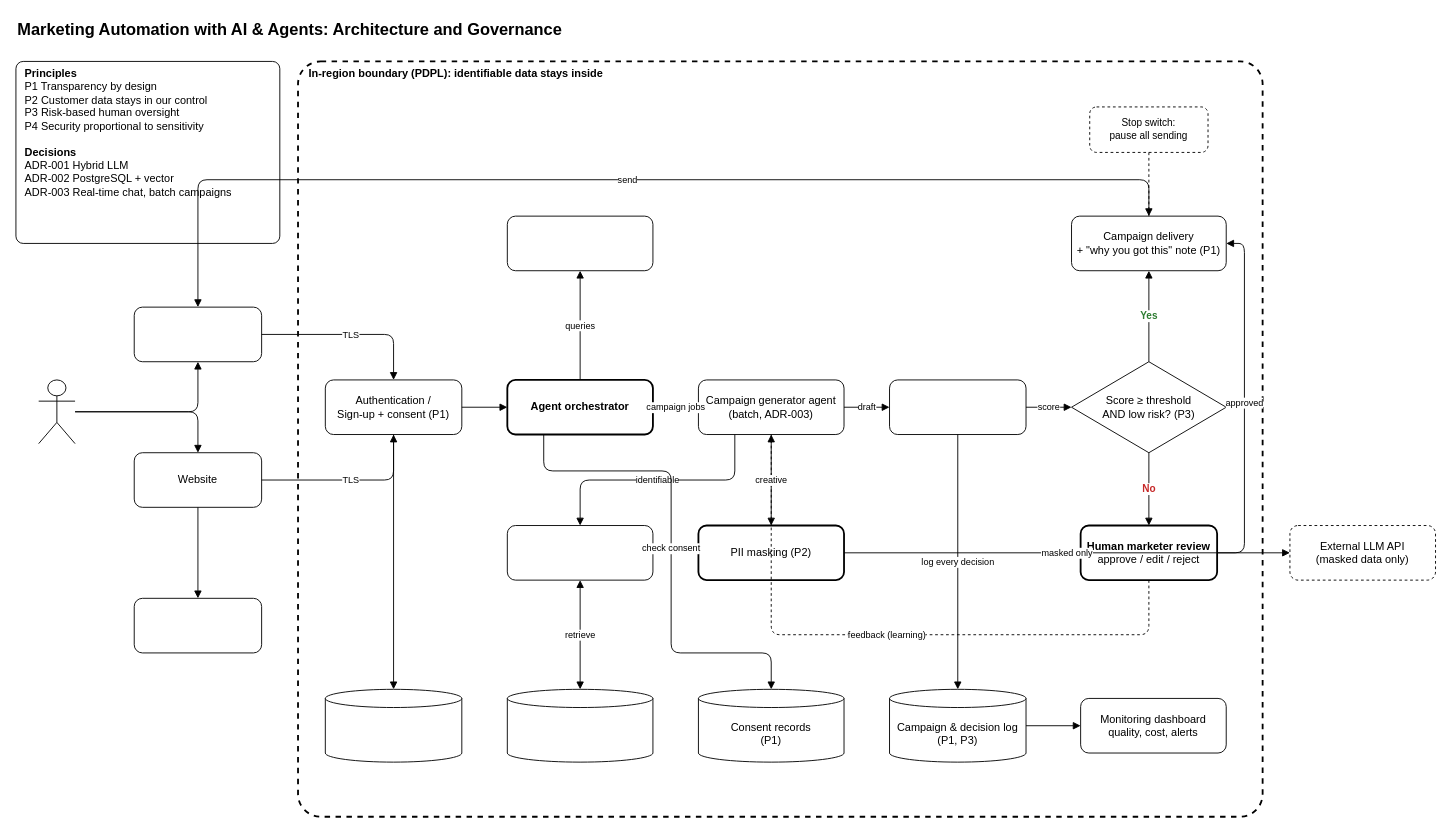
Image size: 1451x833. Some labels were removed from this diagram. The shapes that lost their labels are listed below. From the top down, each one's box as (x1, y1, x2, y2) in pixels, then its label:
(506, 215, 653, 271): Customer service agent (real-time, ADR-003)
(133, 306, 262, 362): WhatsApp (external channel)
(38, 379, 75, 444): Customer
(889, 379, 1026, 435): Scoring agent (evaluated vs humans)
(506, 525, 653, 580): Self-hosted LLM (identifiable data, ADR-001)
(133, 597, 262, 653): Payment provider (PCI-certified, P4)
(324, 688, 462, 762): Identity & profile store (encrypted, P4)
(506, 688, 653, 762): Analytics + vector store PostgreSQL (ADR-002)
